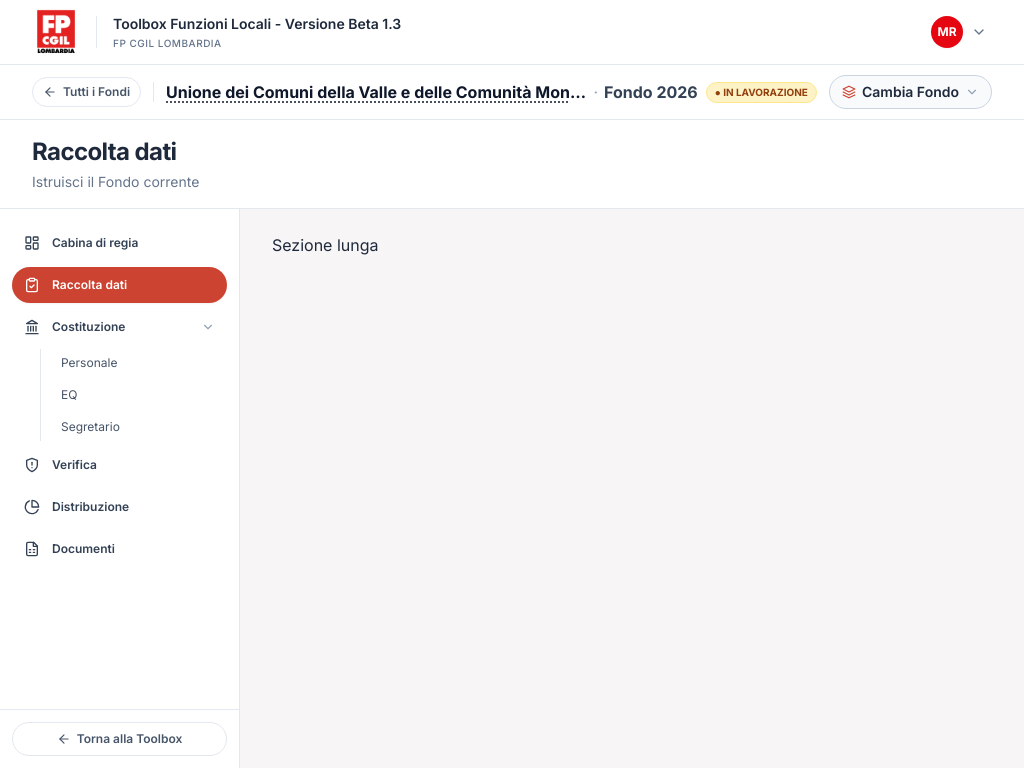
it: Fund context on the real layout (DOM responsive contract) › at 1280px entity/year/state and touch disclosure are present without changing Fund
Expected: the text with test id "contextbar-status-badge" shows "In lavorazione", [715,86,808,98]
Expected: the text "Fondo 2026" is shown, [604,80,698,104]
Click the button with aria-label "Consulta nome completo: Unione dei Comuni della Valle e dell": (377, 92) [166,80,587,104]
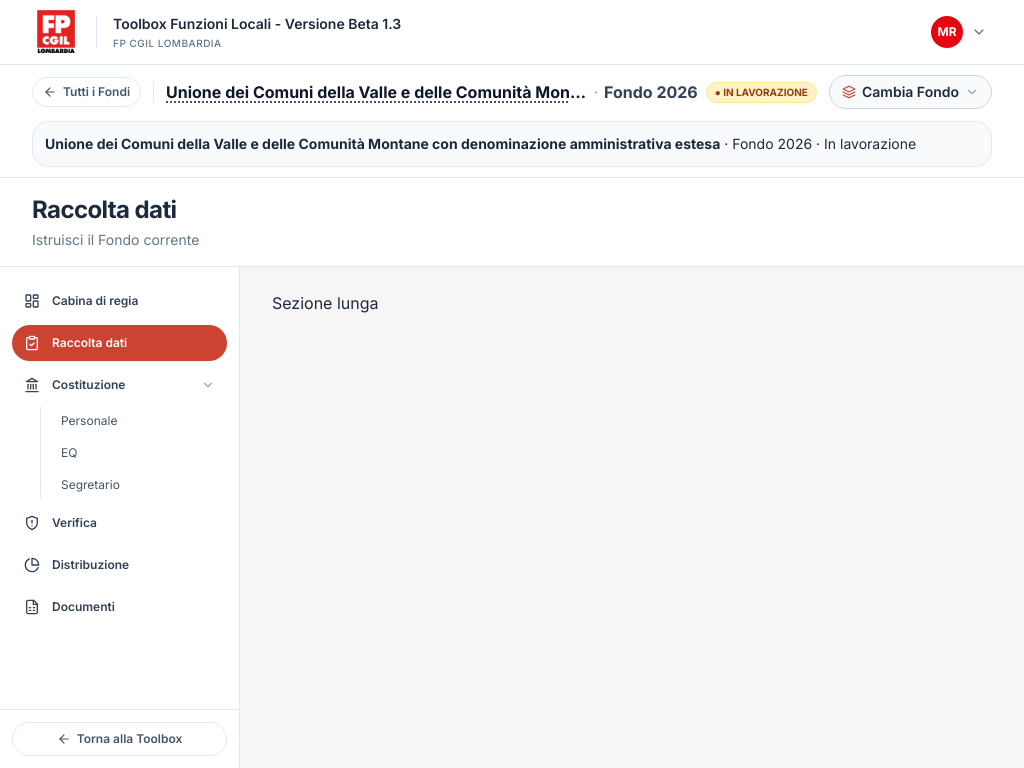
Expected: the element with test id "full-entity-name" shows "Unione dei Comuni della Valle e delle Comunità Montane con denominazione amministrativa estesa", [45,135,720,152]
